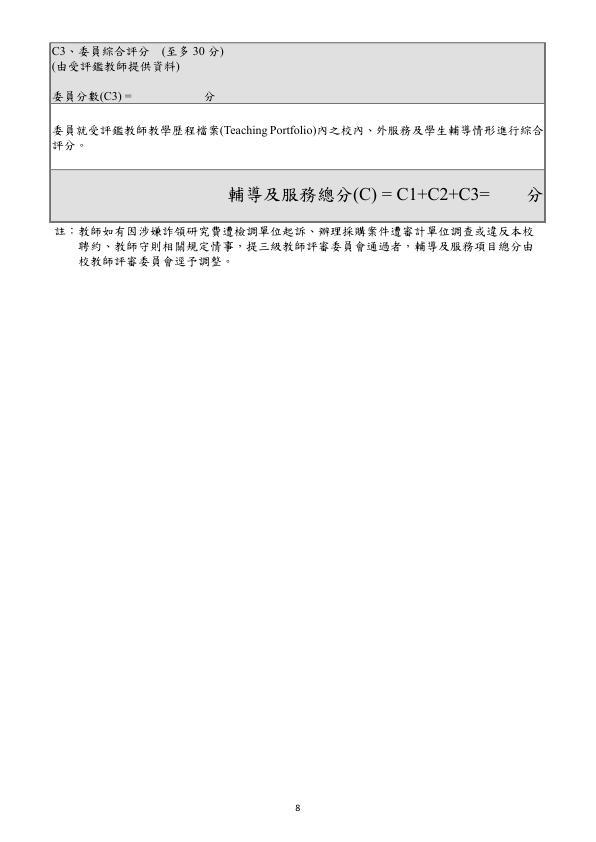table: (47, 38, 551, 225)
text: (51, 225, 547, 269)
